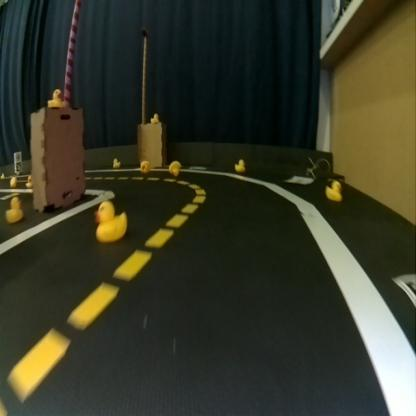Duckie: (94, 200, 126, 242), (6, 197, 23, 222), (326, 180, 342, 200), (48, 90, 61, 107), (168, 160, 180, 176), (234, 158, 245, 170), (140, 160, 150, 172), (112, 158, 120, 167), (150, 112, 158, 121)
